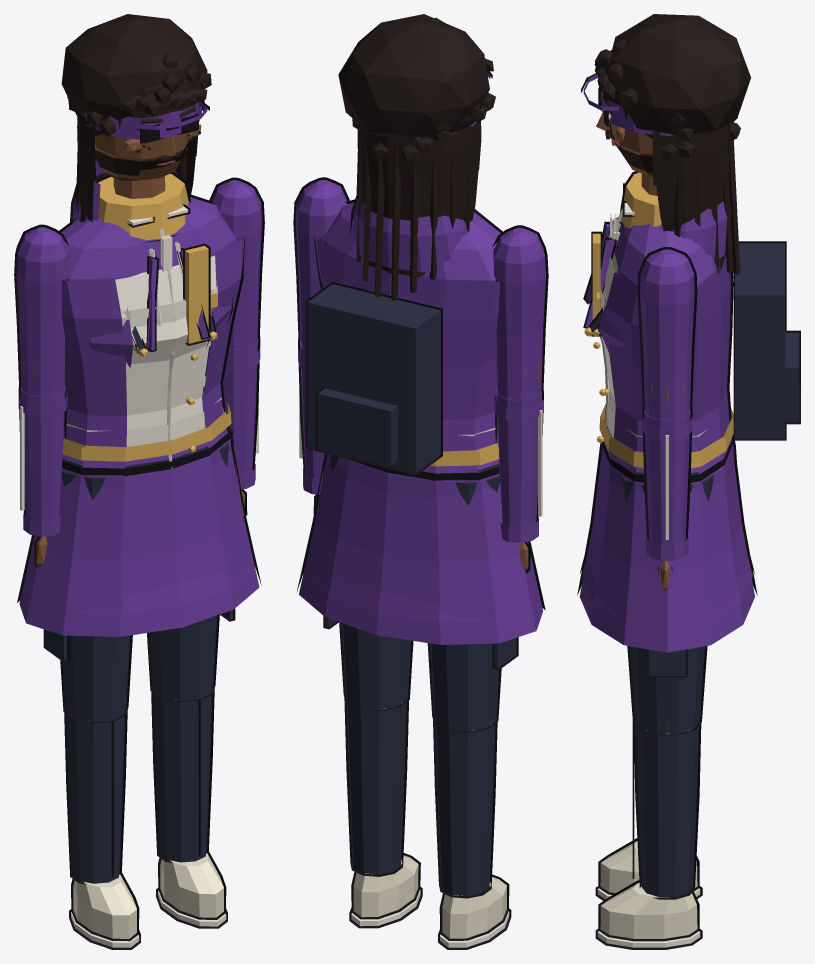
The model's file is kairos-citizen-v3.glb.
The picture shows the model from 3 angles, left to right: view 1: azimuth 30°, elevation 25°; view 2: azimuth 150°, elevation 25°; view 3: azimuth 270°, elevation 25°; orthographic projection.
Visible parts, largest first — view 1: tunic_hem.001, jacket_panel, afro_crown, trouser_lower_R, trouser_lower_L, sleeve_L, shirt_front, tailored_torso, trouser_L, trouser_R, sleeve_R, long_sleeve_hoodie_L (+26 smaller); view 2: tunic_hem.001, backpack.001, afro_crown, jacket_panel, trouser_lower_L, trouser_lower_R, sleeve_L, trouser_L, long_side, trouser_R, pack_pocket.001, backpack (+22 smaller); view 3: tunic_hem.001, afro_crown, jacket_panel, trouser_lower_R, backpack.001, sleeve_R, trouser_R, long_sleeve_hoodie_R, backpack, shoe_R, long_side, tailored_torso (+22 smaller).
Part boxes in pixels (box(x1,y1,x2,y2)): tunic_hem.001: box(17, 429, 261, 636); jacket_panel: box(61, 236, 244, 464); afro_crown: box(61, 14, 207, 120); trouser_lower_R: box(150, 659, 215, 863); trouser_lower_L: box(63, 680, 128, 884); sleeve_L: box(14, 224, 68, 398); shirt_front: box(115, 255, 216, 430); tailored_torso: box(59, 194, 238, 289); trouser_L: box(60, 471, 132, 723); trouser_R: box(147, 430, 232, 702); sleeve_R: box(209, 177, 264, 351); long_sleeve_hoodie_L: box(18, 385, 66, 521); tunic_hem.001: box(296, 453, 545, 644); backpack.001: box(305, 282, 442, 475); afro_crown: box(338, 14, 489, 139); jacket_panel: box(314, 237, 499, 451); trouser_lower_L: box(432, 689, 498, 898); trouser_lower_R: box(343, 668, 409, 876); sleeve_L: box(492, 225, 548, 401); trouser_L: box(427, 476, 501, 732); long_side: box(357, 137, 481, 277); trouser_R: box(330, 455, 413, 711); pack_pocket.001: box(316, 387, 398, 468); backpack: box(306, 282, 442, 464); tunic_hem.001: box(577, 438, 757, 652); afro_crown: box(609, 14, 750, 135); jacket_panel: box(606, 217, 734, 465); trouser_lower_R: box(633, 696, 701, 899); backpack.001: box(734, 241, 786, 440); sleeve_R: box(637, 247, 697, 419); trouser_R: box(621, 475, 713, 735); long_sleeve_hoodie_R: box(642, 409, 692, 544); backpack: box(733, 241, 785, 440); shoe_R: box(598, 880, 699, 941); long_side: box(652, 137, 730, 271); tailored_torso: box(614, 224, 716, 290).
Bounding box in the file's own units: 0.4889 × 1.72 × 0.389.
